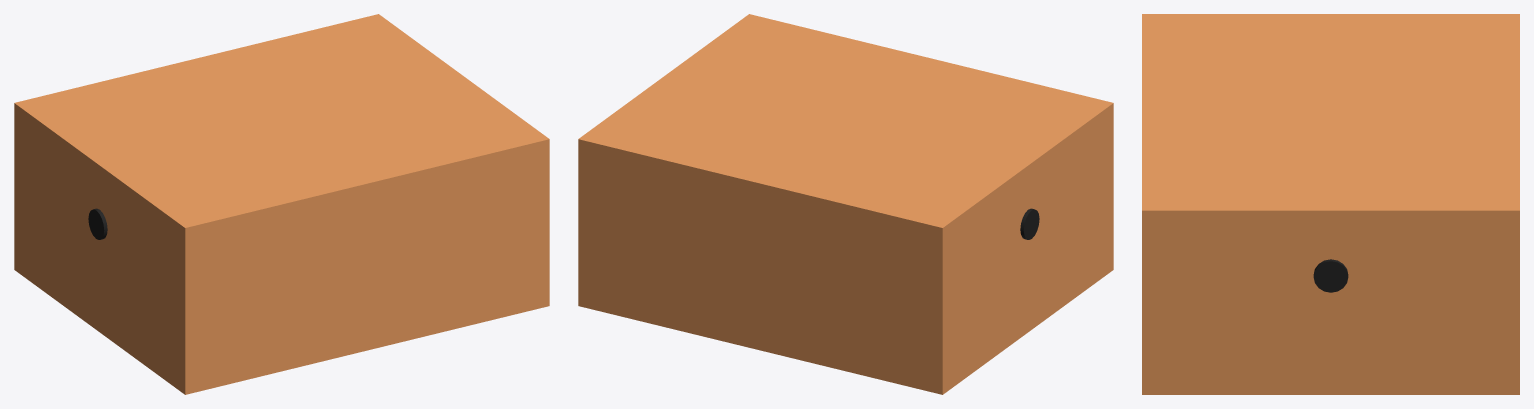
Rendered from FoodComboBox.glb.
3 views of the same model, side by side, from view 1: azimuth 30°, elevation 25°; view 2: azimuth 150°, elevation 25°; view 3: azimuth 270°, elevation 25° (orthographic). The views are drawn at different scales.
Visible parts, largest first — view 1: FoodTray, FoodLid, SteamVent_0; view 2: FoodTray, FoodLid, SteamVent_0; view 3: FoodLid, FoodTray, SteamVent_1.
Part boxes in pixels (x1=…): FoodTray: x1=14, y1=103, x2=549, y2=394; FoodLid: x1=15, y1=14, x2=549, y2=274; SteamVent_0: x1=88, y1=208, x2=107, y2=239; FoodTray: x1=578, y1=103, x2=1113, y2=394; FoodLid: x1=578, y1=14, x2=1112, y2=227; SteamVent_0: x1=1020, y1=208, x2=1039, y2=239; FoodLid: x1=1142, y1=14, x2=1519, y2=210; FoodTray: x1=1142, y1=210, x2=1519, y2=394; SteamVent_1: x1=1313, y1=259, x2=1348, y2=292.
Size of the model in its own units: 3.26 by 1.4 by 2.6.
